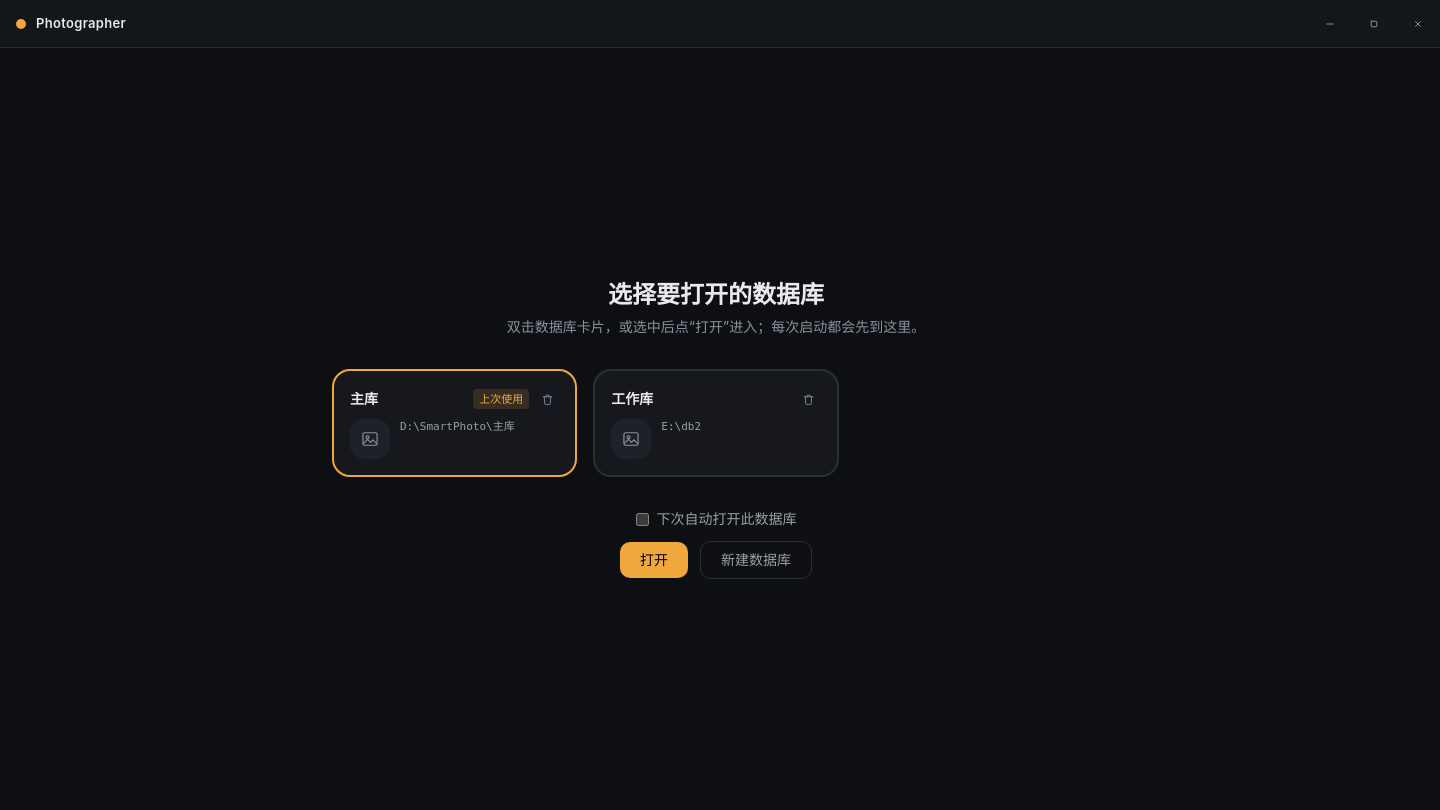
Test: DatabasePickerPage（达芬奇式启动首屏） › 切换失败：后端 Err 文案内联展示、留在选择页
Click the button with test id "database-picker-open" at (654,560), box top-left (620, 542), bottom-right (688, 578)
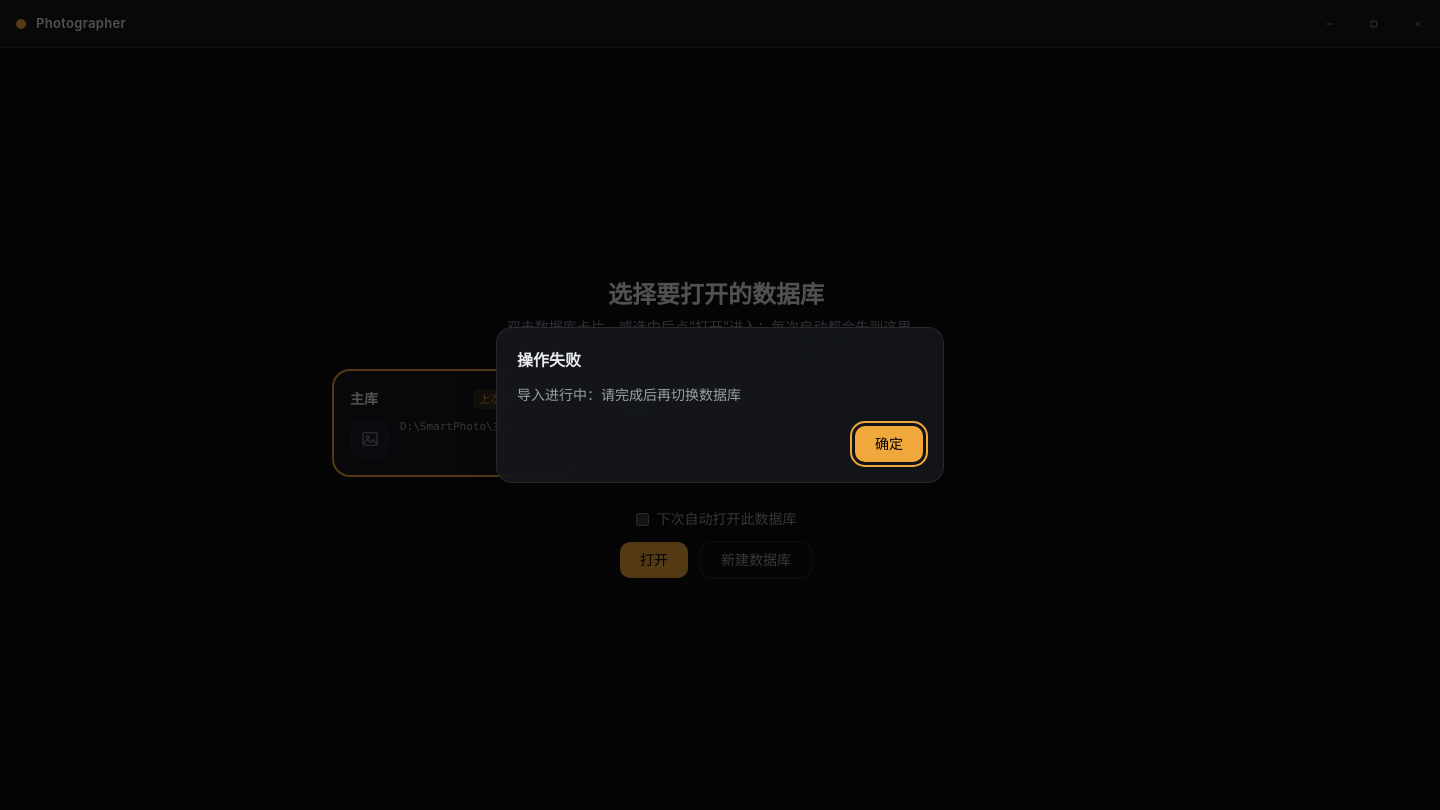
Check: the dialog with test id "operation-error-dialog" shows "导入进行中：请完成后再切换数据库", box top-left (517, 386), bottom-right (741, 403)
